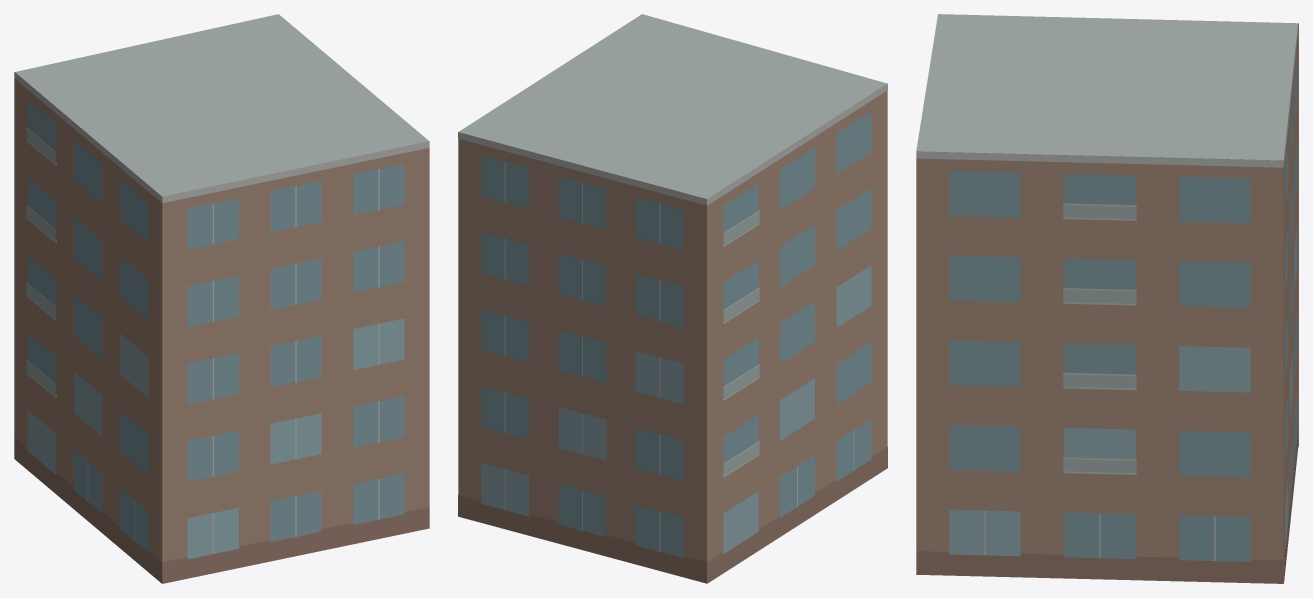
The model's file is survey-upis-32825148.glb.
3 renders of one model, left to right at view 1: azimuth 30°, elevation 25°; view 2: azimuth 150°, elevation 25°; view 3: azimuth 270°, elevation 25°, orthographic. The views are drawn at different scales.
Visible parts, largest first — view 1: survey-upis-32825148.tmp; view 2: survey-upis-32825148.tmp; view 3: survey-upis-32825148.tmp.
Boxes of the visible parts, box(x1,y1,x2,y2) form: survey-upis-32825148.tmp: box(14, 14, 429, 583); survey-upis-32825148.tmp: box(458, 14, 887, 583); survey-upis-32825148.tmp: box(916, 14, 1298, 583).
Bounding box in the file's own units: 10.66 × 14.35 × 11.76.
